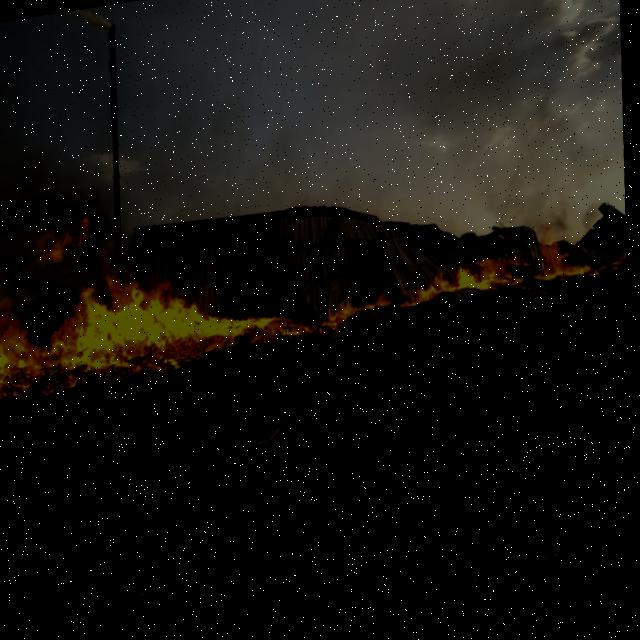Fire: (0, 256, 322, 403), (318, 220, 631, 342)
Smoke: (0, 5, 130, 319)
